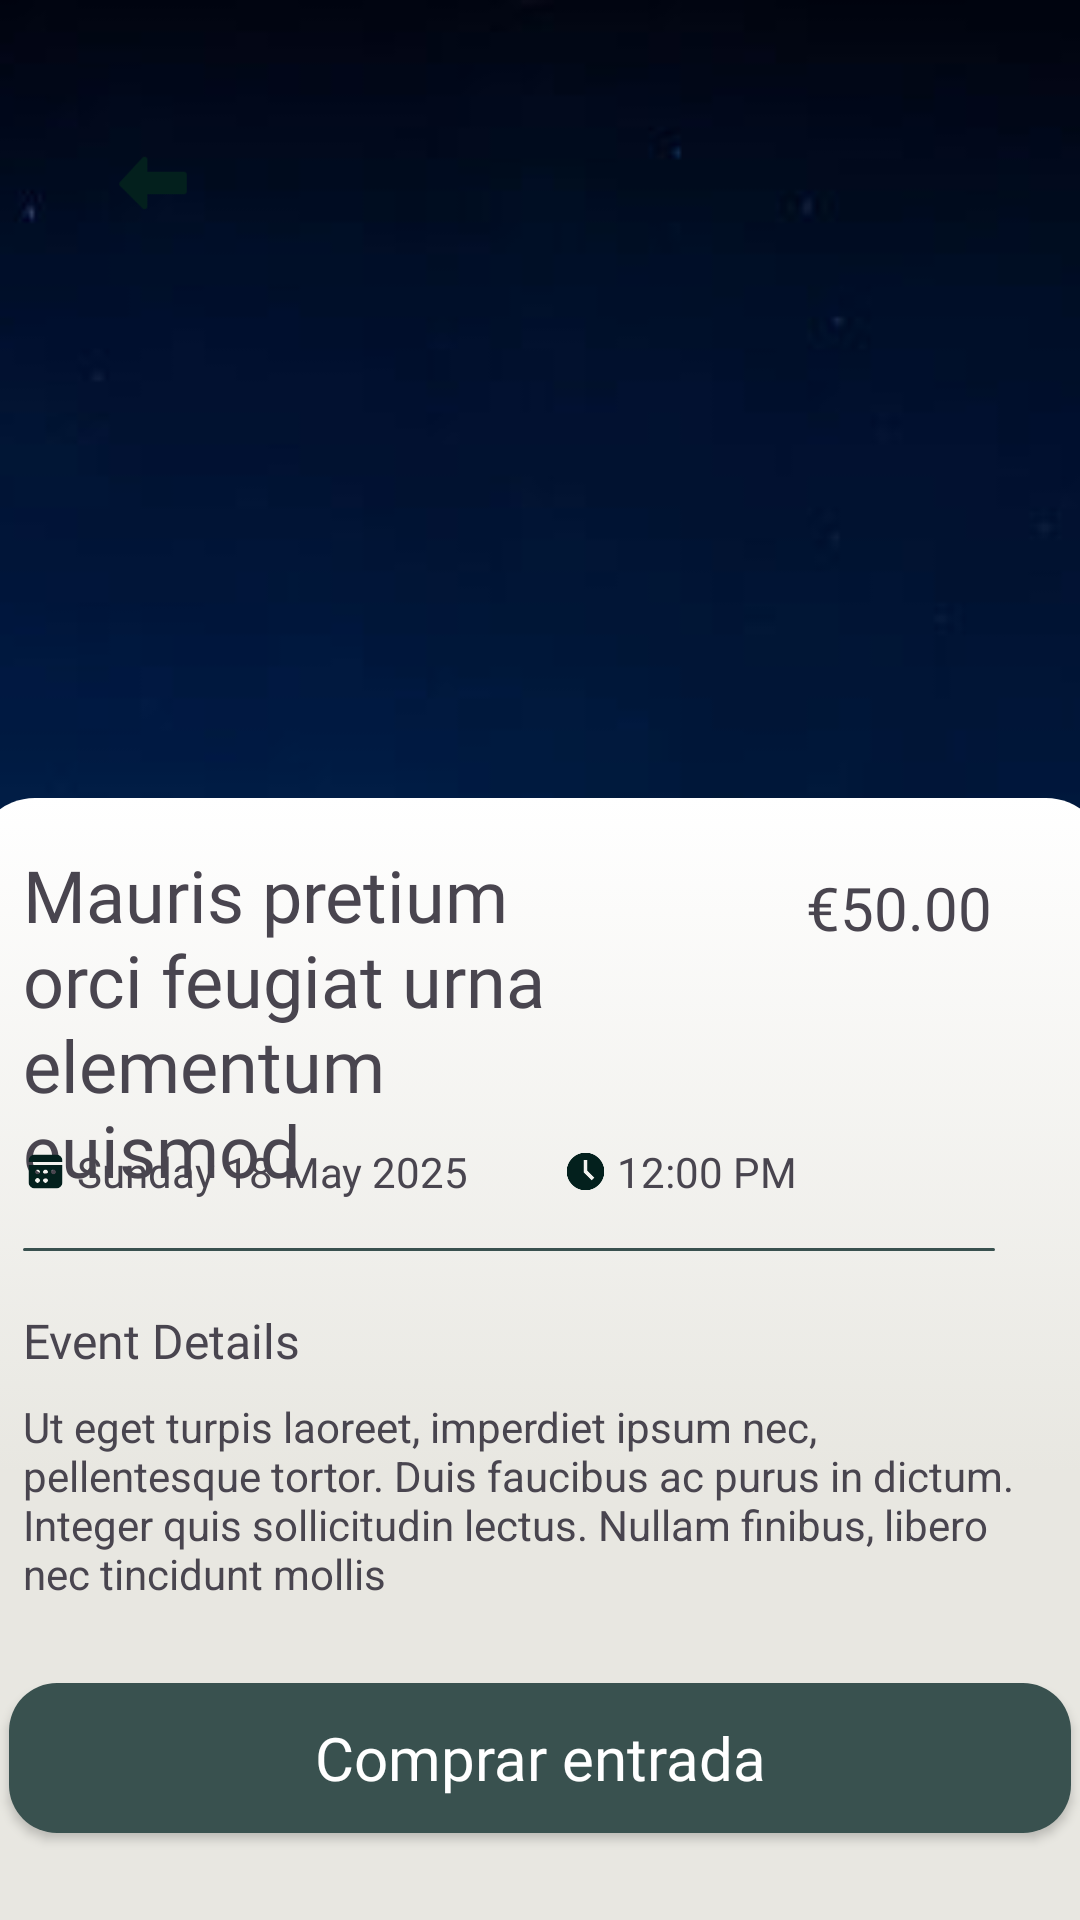

Where to tap for icons on this 1080x1920 app screen, as (x,y):
calendario: (47,1169)
reloj: (585,1171)
